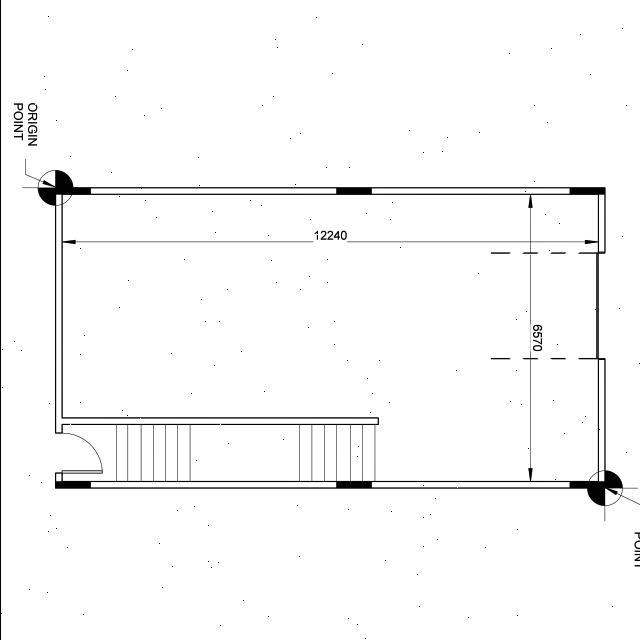Column: (334, 186, 373, 196), (54, 187, 91, 196), (54, 479, 90, 488), (568, 187, 604, 195), (569, 481, 604, 488)
Door: (54, 428, 107, 474)
Staircase: (68, 414, 378, 484), (335, 482, 373, 490)
Window: (593, 243, 610, 364)
